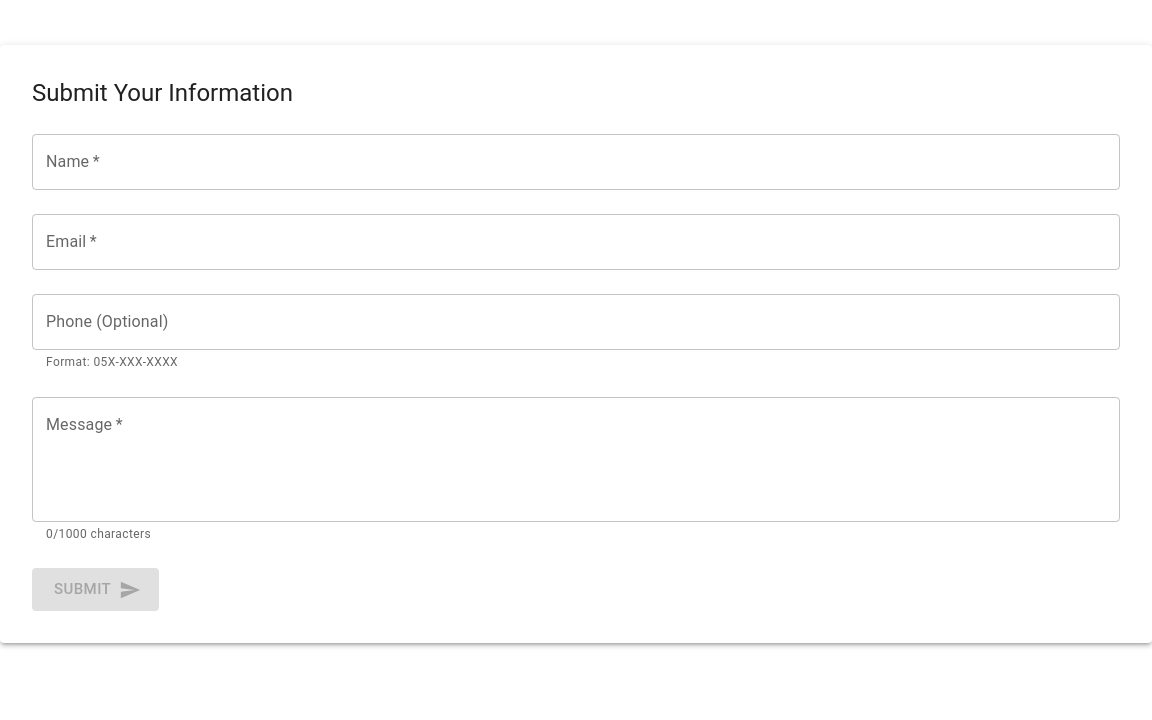
Test: SubmissionForm › Form Submission › should show generic error when no error message provided
This screenshot has width=1152, height=720.
Type "John Doe" into the field labelled "Name *" at (576, 162), box [32,134,1120,190]
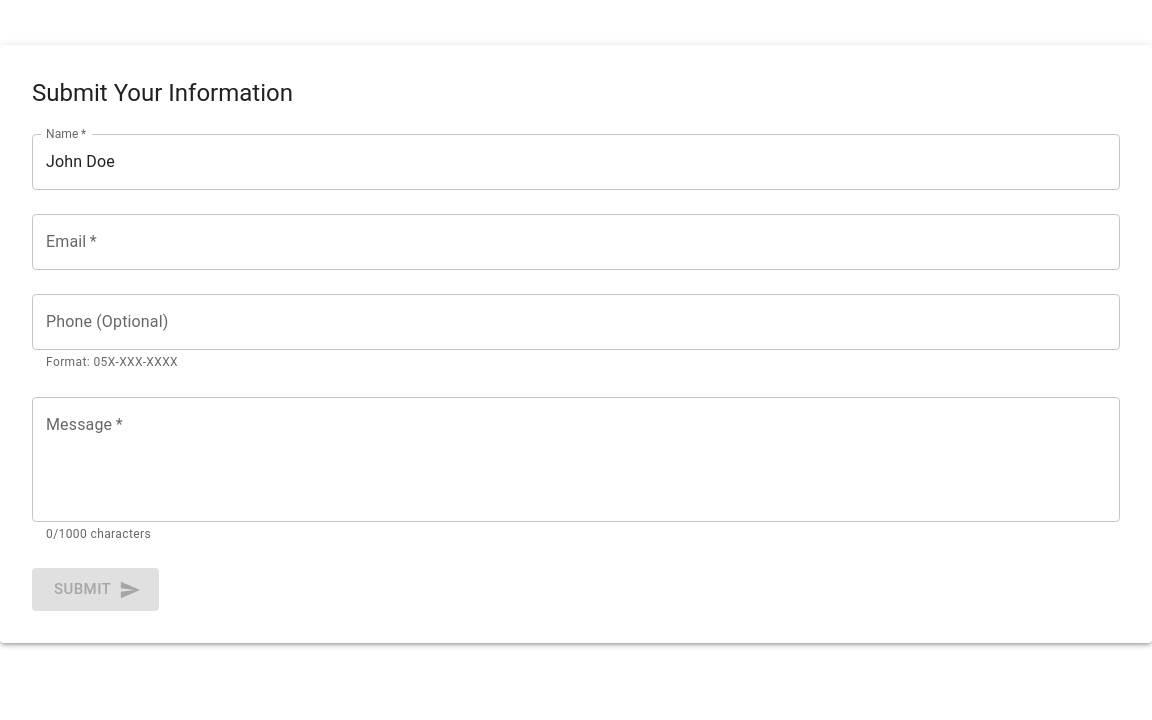
Type "john@example.com" into the field labelled "Email *" at (576, 242), box [32,214,1120,270]
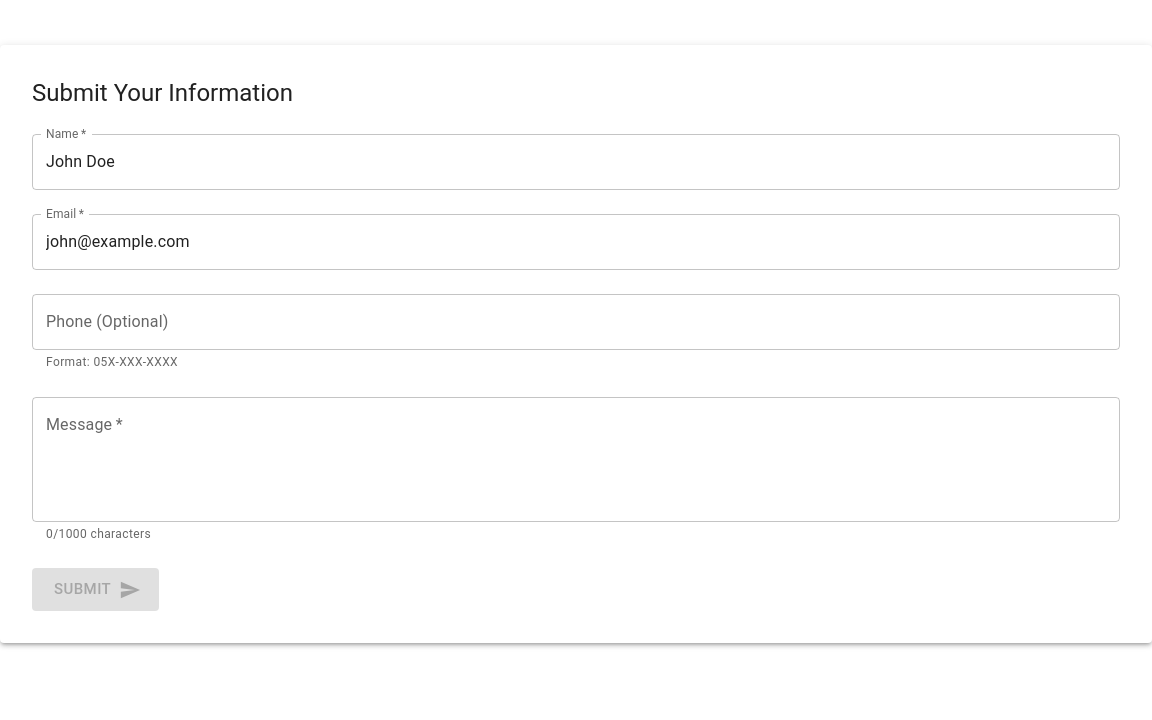
Type "Test message" into the text box labelled "Message *" at (576, 459), box [46,413,1106,505]
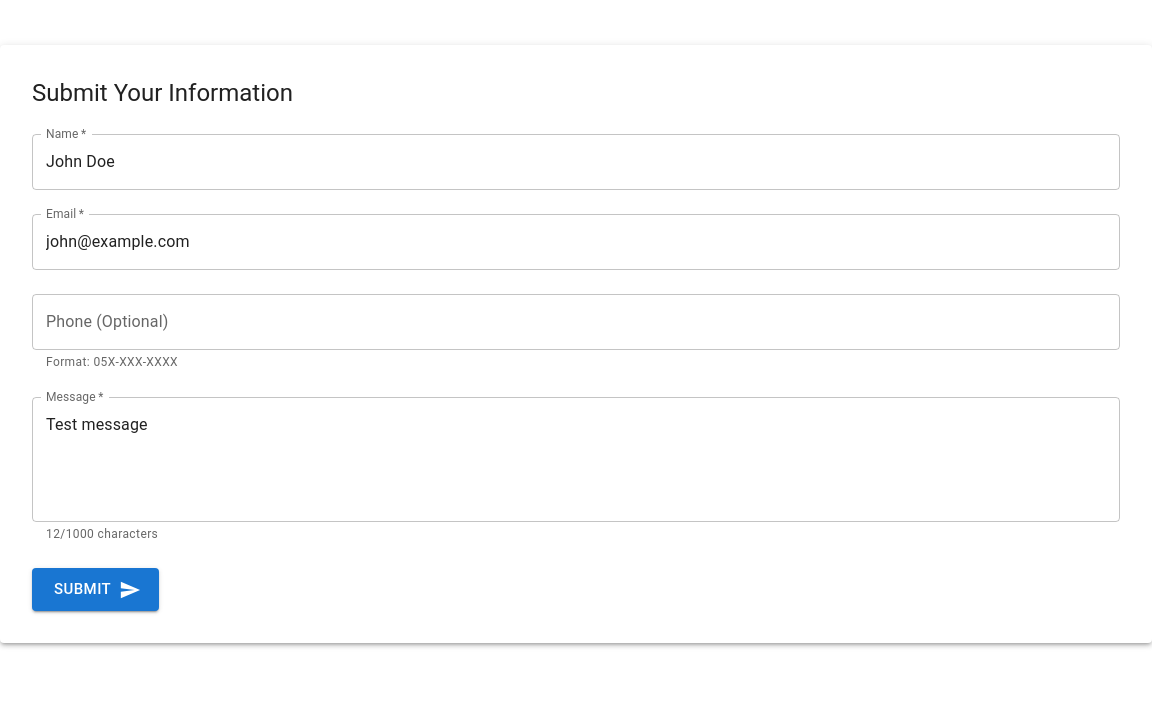
Click the button "Submit" at (96, 590), box [32,568,159,611]
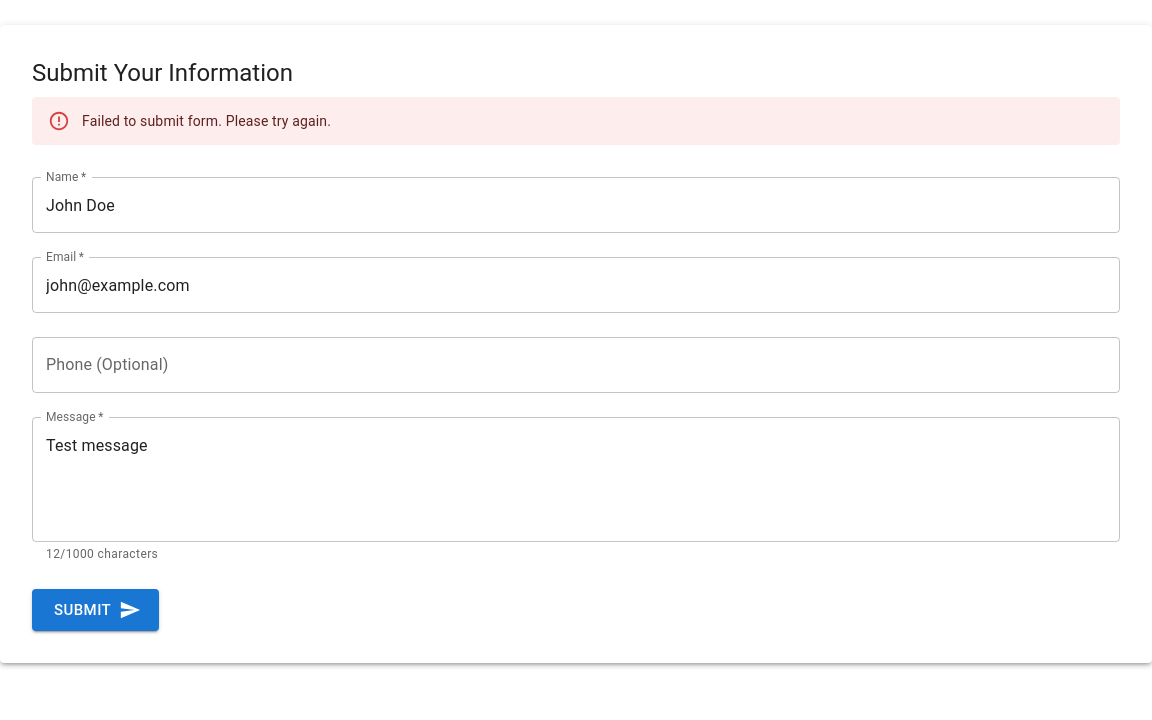
Expected: the text "Failed to submit form. Please try again." is shown, [82,113,331,129]
